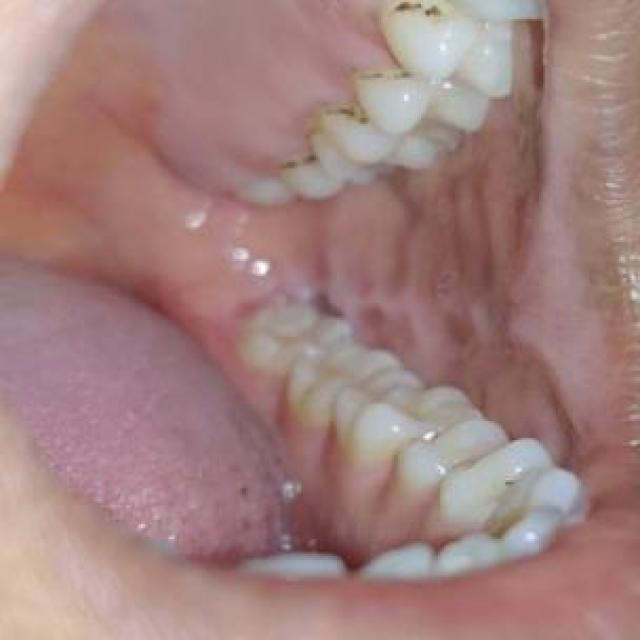processing_area: (0, 1, 607, 553)
